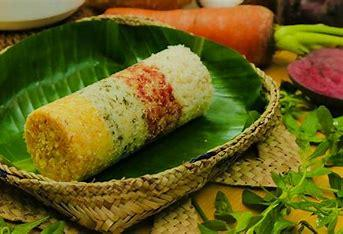Pittu: (21, 42, 213, 171)
